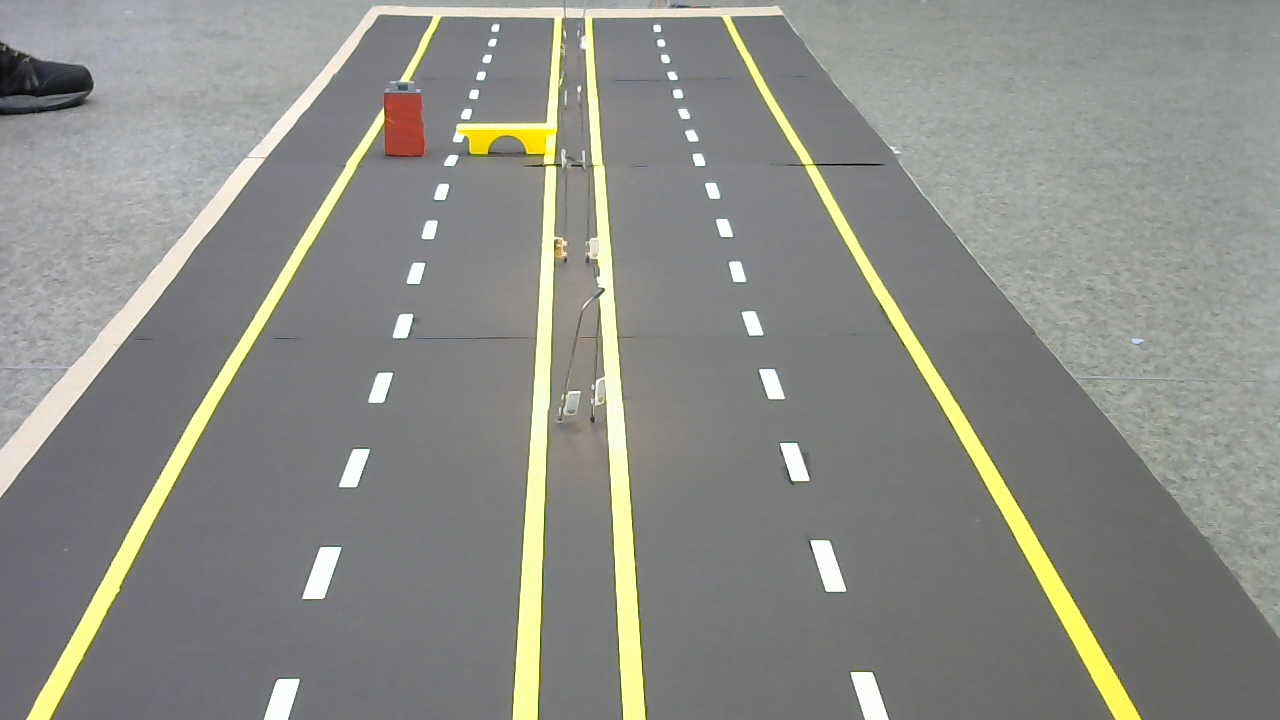accident: (379, 77, 427, 160)
emergency_situation: (456, 121, 558, 157)
